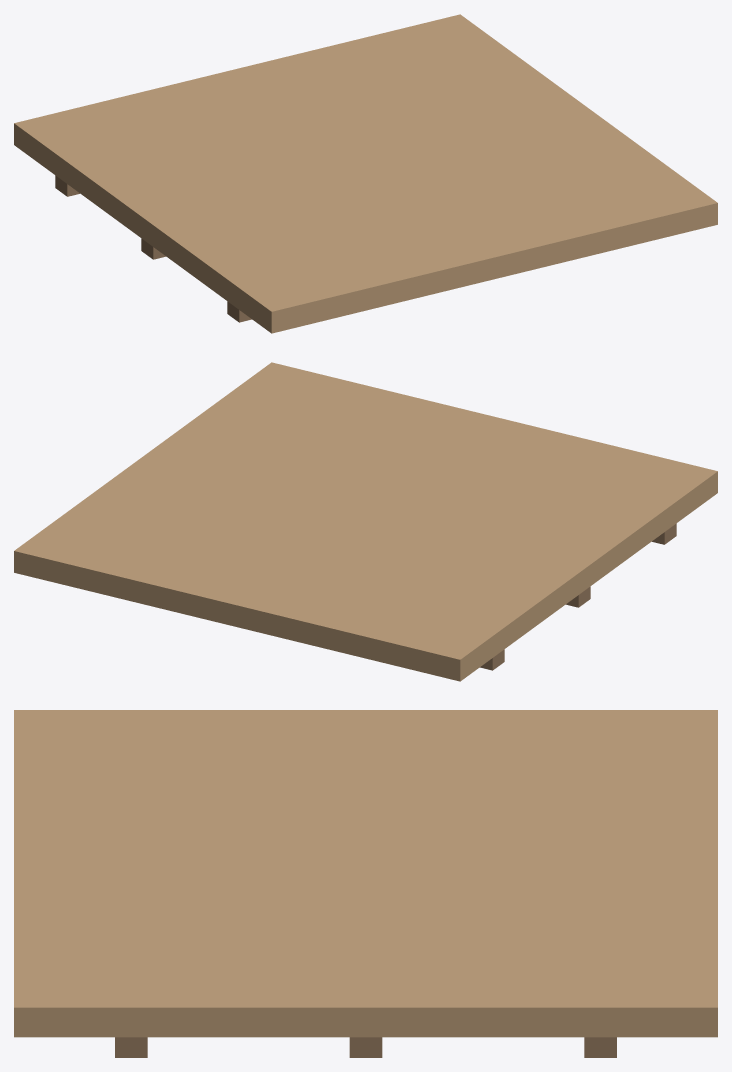
File: ceiling.glb
3 views of the same model, one above another, from view 1: azimuth 30°, elevation 25°; view 2: azimuth 150°, elevation 25°; view 3: azimuth 270°, elevation 25° (orthographic). The views are drawn at different scales.
Parts seen in each view (by area): view 1: ceiling; view 2: ceiling; view 3: ceiling.
Part boxes in pixels (x1,y1,x2,y2): ceiling: [14, 14, 717, 333]; ceiling: [14, 362, 717, 681]; ceiling: [14, 710, 717, 1057].
Size of the model in its own units: 3 by 0.25 by 3.
